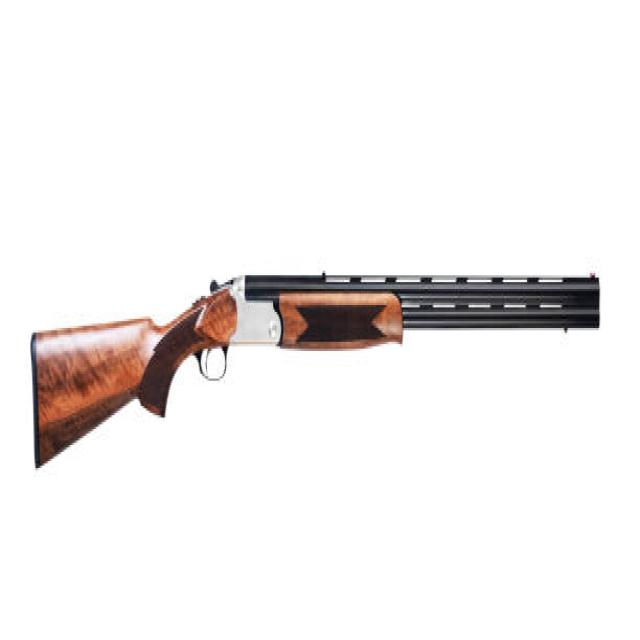rifle: (28, 247, 605, 482)
